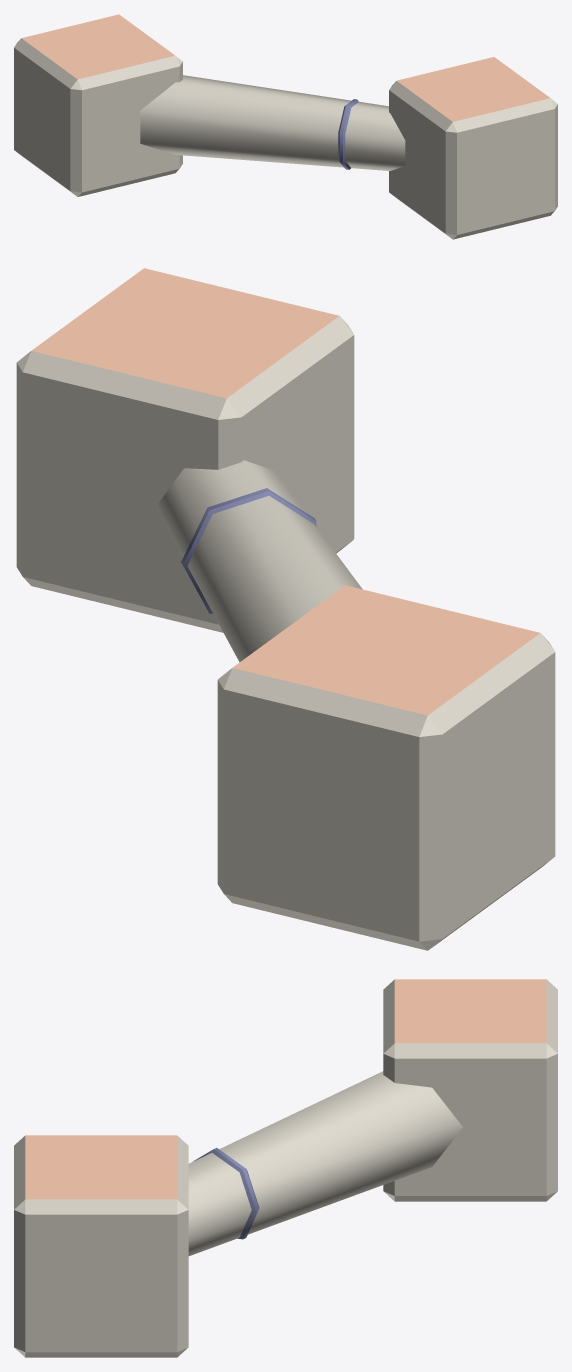
The model's file is R4C_STRUT_DIAG_2D_LOD1.fbx.
The picture shows the model from 3 angles, top to bottom: view 1: azimuth 30°, elevation 25°; view 2: azimuth 150°, elevation 25°; view 3: azimuth 270°, elevation 25°; orthographic projection. The views are drawn at different scales.
Parts seen in each view (by area): view 1: R4C_STRUT_DIAG_2D_LOD1; view 2: R4C_STRUT_DIAG_2D_LOD1; view 3: R4C_STRUT_DIAG_2D_LOD1.
Part boxes in pixels (box(x1,y1,x2,y2)): R4C_STRUT_DIAG_2D_LOD1: box(14, 14, 557, 239); R4C_STRUT_DIAG_2D_LOD1: box(16, 268, 555, 950); R4C_STRUT_DIAG_2D_LOD1: box(14, 979, 557, 1357).
Bounding box in the file's own units: 1.62 × 0.52 × 1.62.
